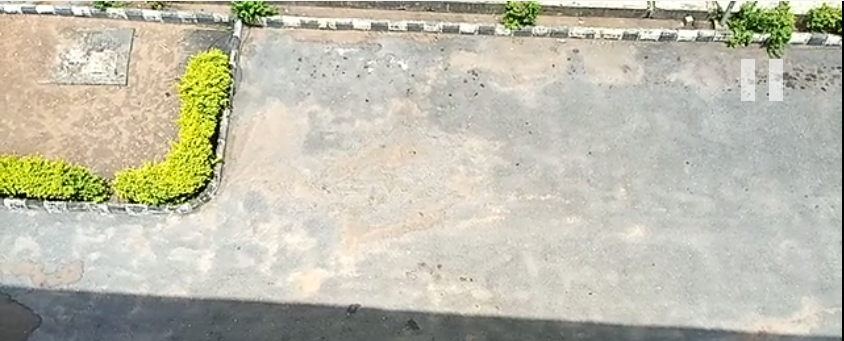one: (207, 5, 352, 217)
three: (586, 10, 734, 230)
two: (416, 1, 543, 225)
